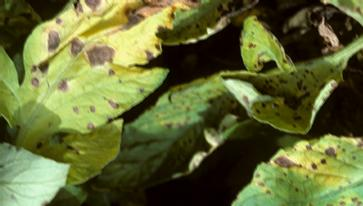Tomato Septoria leaf spot: (0, 0, 184, 158), (213, 30, 363, 138), (211, 128, 363, 206)
